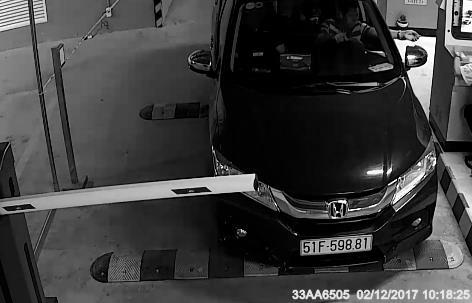License-plate: (299, 226, 380, 262)
